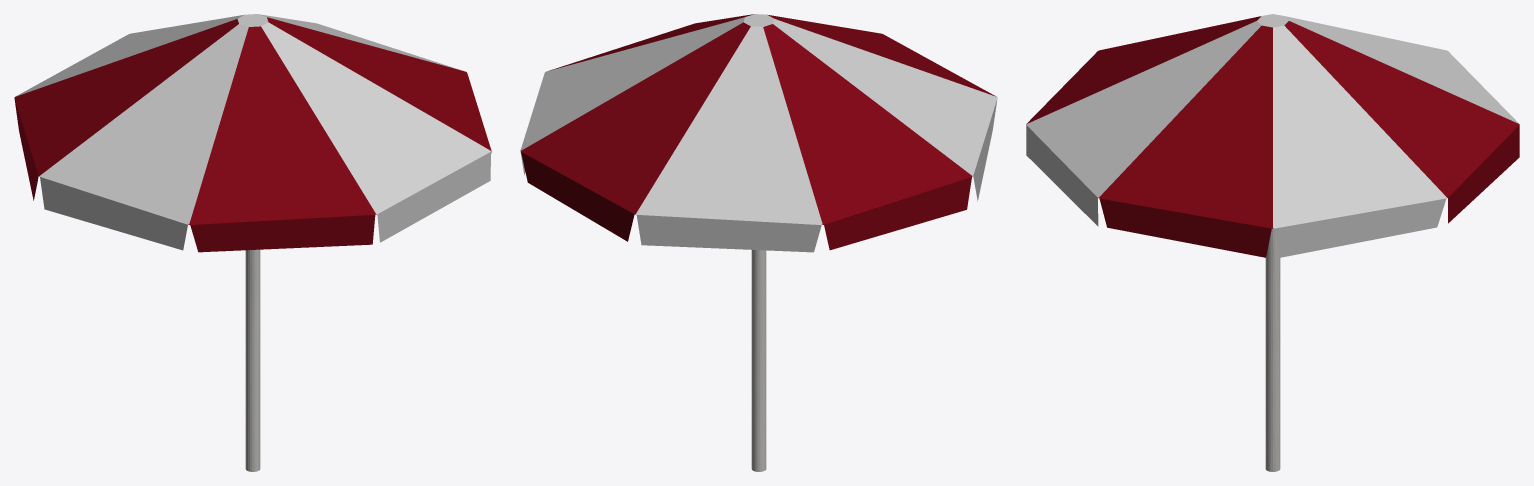
Rendered from Sombrilla.fbx.
3 renders of one model, left to right at view 1: azimuth 30°, elevation 25°; view 2: azimuth 150°, elevation 25°; view 3: azimuth 270°, elevation 25°, orthographic.
Parts seen in each view (by area): view 1: Cylinder.006; view 2: Cylinder.006; view 3: Cylinder.006.
Part boxes in pixels (x1,y1,x2,y2): Cylinder.006: (14,14,491,471); Cylinder.006: (520,14,997,471); Cylinder.006: (1026,14,1519,471).
Size of the model in its own units: 30.74 by 30.82 by 30.74.
